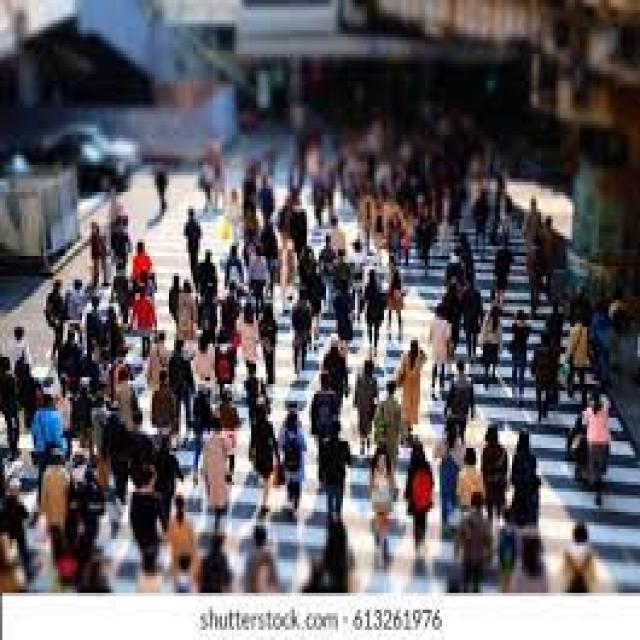Pedestrians: (198, 418, 234, 532), (582, 388, 618, 498), (246, 404, 278, 519), (130, 465, 166, 562), (394, 333, 430, 428), (321, 421, 348, 522), (367, 442, 394, 542), (280, 408, 307, 505), (449, 360, 474, 434), (355, 357, 377, 435), (181, 202, 203, 276), (46, 273, 63, 357), (89, 219, 109, 290), (324, 326, 345, 391), (130, 232, 150, 276), (12, 327, 29, 367)
